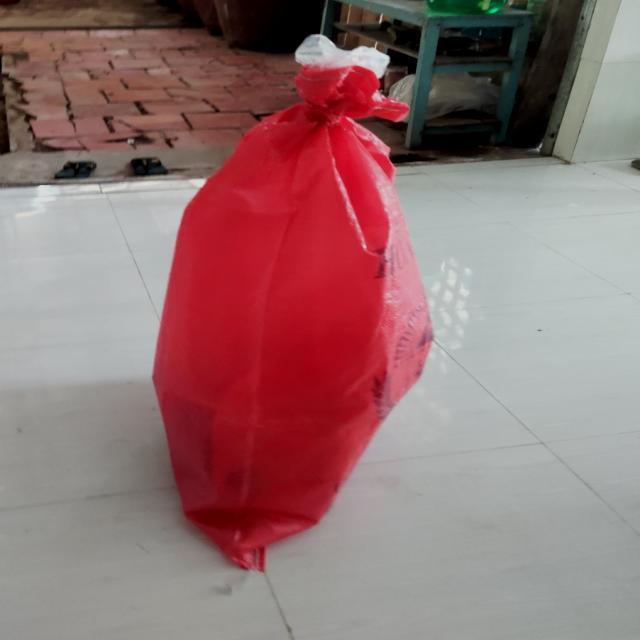gunny_bag: (153, 34, 433, 572)
